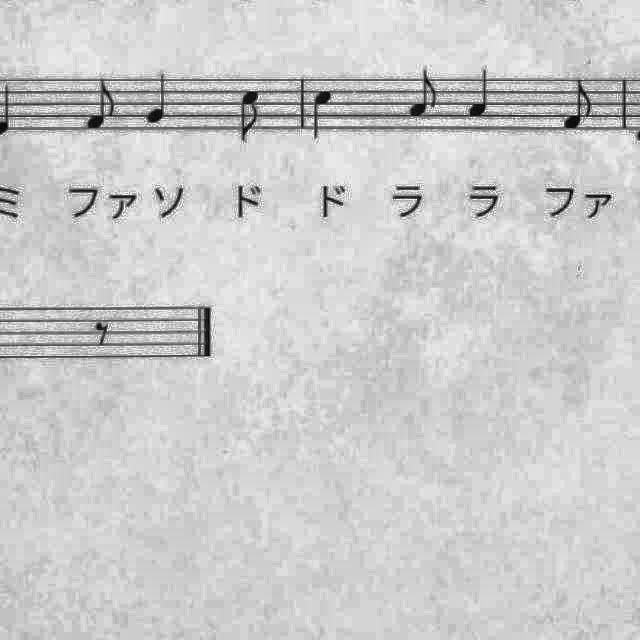Eighth-note: (80, 74, 124, 136), (557, 76, 599, 136), (232, 84, 268, 148), (404, 68, 444, 124)
Eighth-rest: (90, 315, 118, 353)
Quarter-note: (143, 70, 179, 130), (305, 85, 339, 143), (465, 65, 499, 121)
